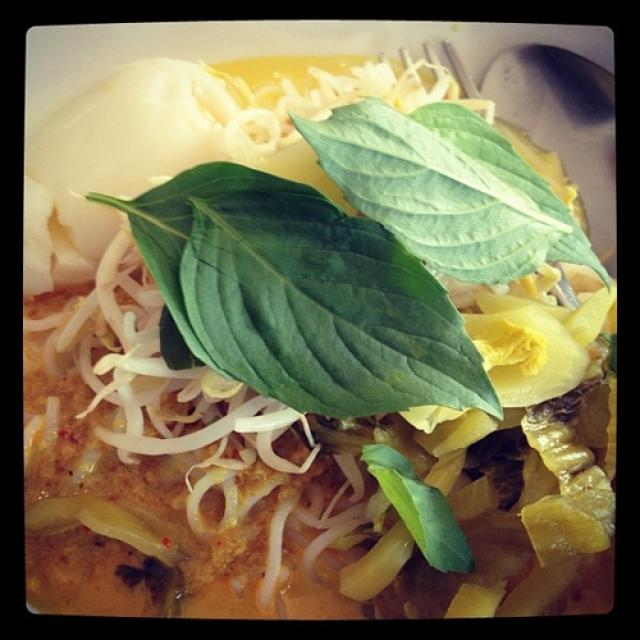面条主食: (29, 37, 617, 613)
